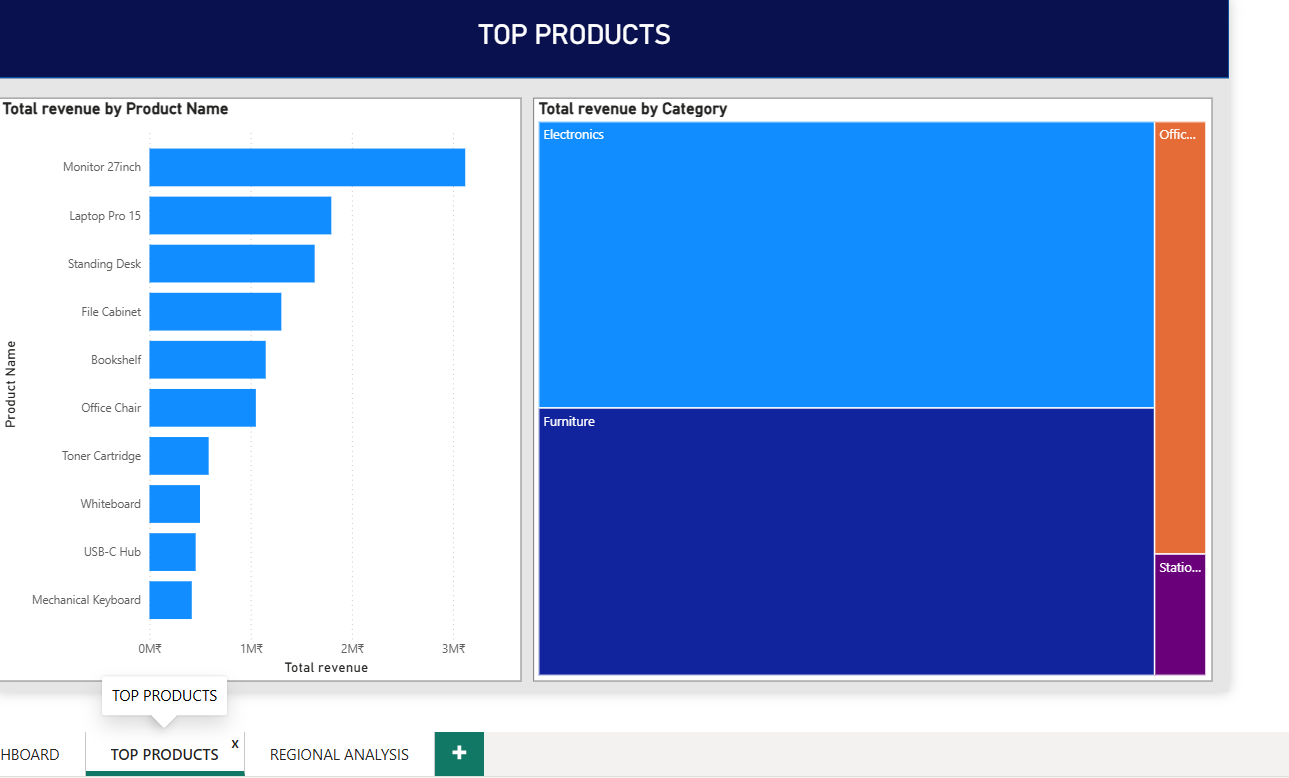

This screenshot's page, from the dashboard's own definition file:
{"tool":"powerbi","page":{"name":"TOP PRODUCTS ","canvas":[1280,720],"ordinal":1},"visuals":[{"type":"barChart","fields":{"Category":["Sales Data.Product Name"],"Y":["Sales Data.total revenue"]},"box":[0,102.9,544.8,606.5],"z":0},{"type":"treemap","fields":{"Group":["Sales Data.Category"],"Values":["Sales Data.total revenue"]},"box":[557.1,102.9,705.3,606.5],"z":1000},{"type":"shape","box":[0,0,1280.3,82.3],"z":2000},{"type":"textbox","title":"TOP PRODUCTS ","box":[495.4,19.2,212.7,45.3],"z":3000}]}

Visuals, with their boxes on the page's 1280x720 design canvas (x1, y1, x2, y2). These are canvas units, not pixel positions in the 1289x778 screenshot, which may show the page scaled, cropped or inside an application window:
barChart - Sales Data.Product Name x Sales Data.total revenue: 0/103/545/709
treemap - Sales Data.Category x Sales Data.total revenue: 557/103/1262/709
shape: 0/0/1280/82
"TOP PRODUCTS " textbox: 495/19/708/64
